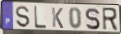0: (68, 7, 83, 31)
K: (52, 7, 65, 30)
L: (33, 6, 48, 30)
R: (101, 7, 119, 32)
S: (84, 7, 102, 31), (15, 6, 31, 29)
